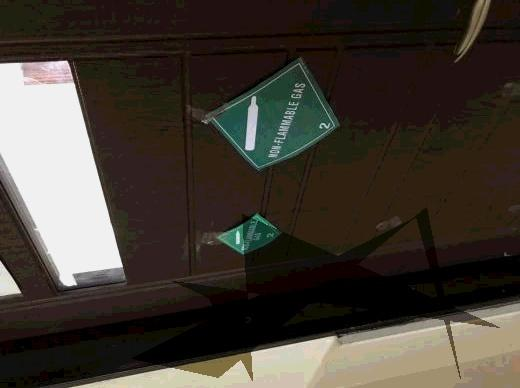non-flammable-gas: (205, 56, 339, 171), (215, 213, 284, 257)
